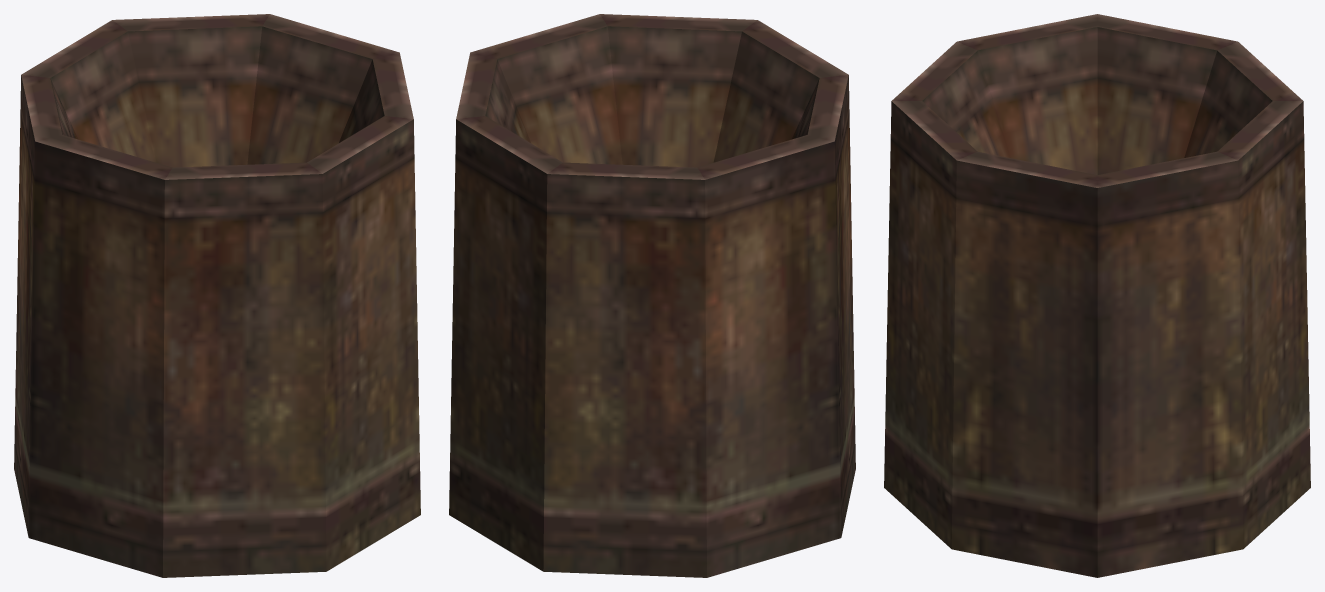
The model's file is ChaBei.fbx.
3 views of the same model, side by side, from view 1: azimuth 30°, elevation 25°; view 2: azimuth 150°, elevation 25°; view 3: azimuth 270°, elevation 25° (orthographic). The views are drawn at different scales.
Visible parts, largest first — view 1: 3D_ChaBei.mo; view 2: 3D_ChaBei.mo; view 3: 3D_ChaBei.mo.
Part boxes in pixels (x1,y1,x2,y2): 3D_ChaBei.mo: (14, 14, 420, 577); 3D_ChaBei.mo: (449, 14, 855, 577); 3D_ChaBei.mo: (884, 14, 1310, 577).
Size of the model in its own units: 5.49 by 5.49 by 5.49.
1 material, 1 textured.
